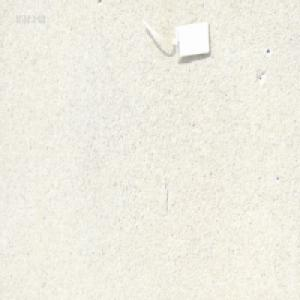LuggageTag: (139, 15, 212, 62)
